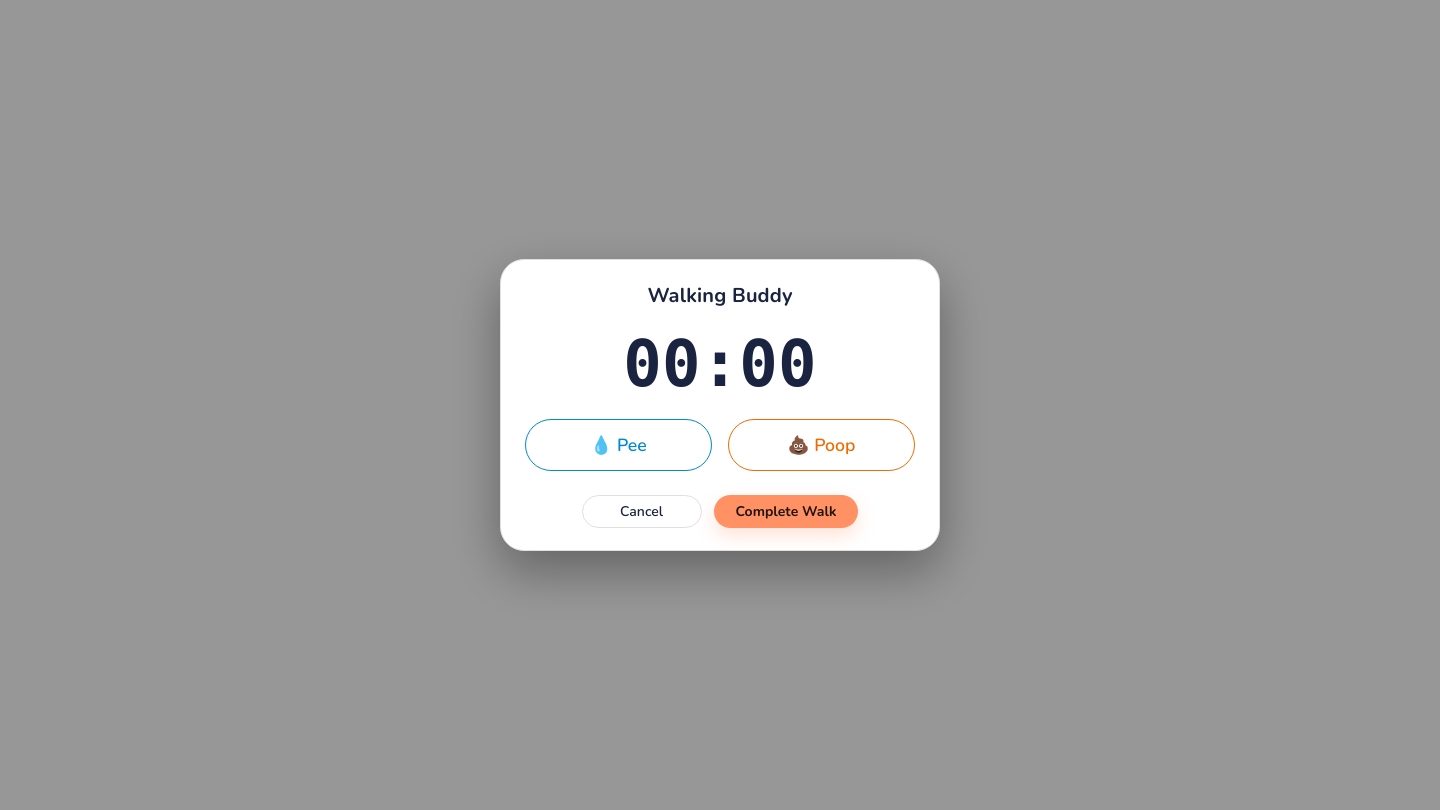
Scenario: WalkTimerModal › Bathroom events › adds poop event when poop button is clicked
Click the button "💩 Poop".
click(822, 445)  # box [728, 419, 915, 471]
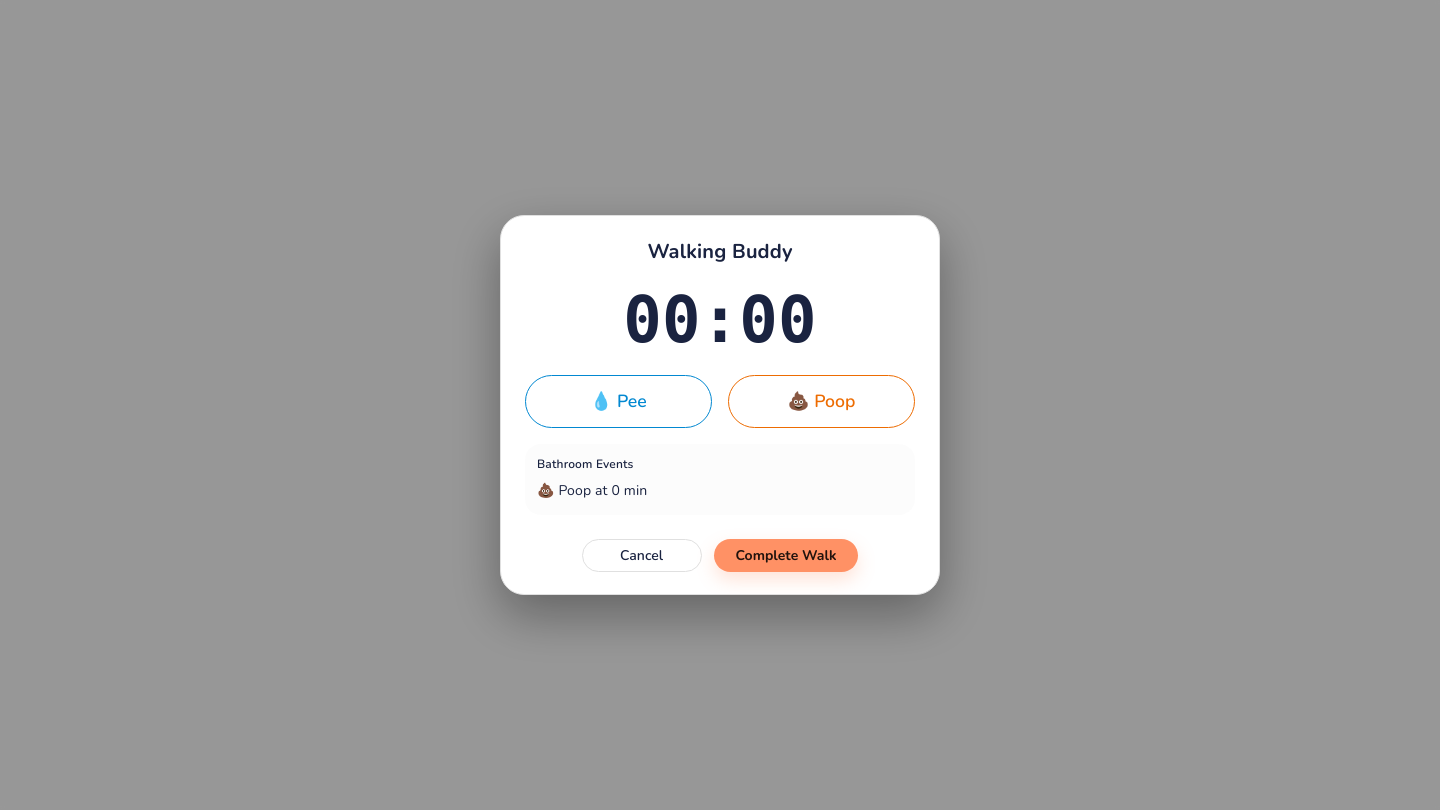
Now the text "Bathroom Events" is shown, box [537, 456, 634, 472]
Now the text "💩 Poop at 0 min" is shown, box [537, 481, 647, 500]
